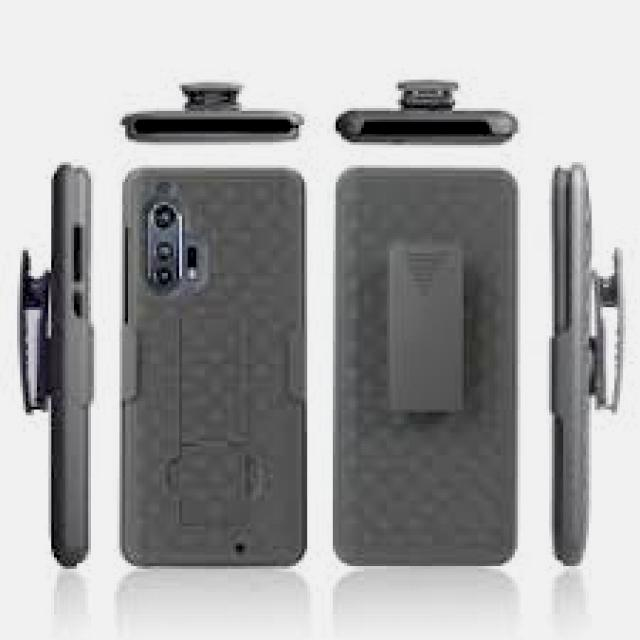lens: (145, 197, 183, 294)
phone: (119, 164, 313, 567), (336, 158, 520, 568)
